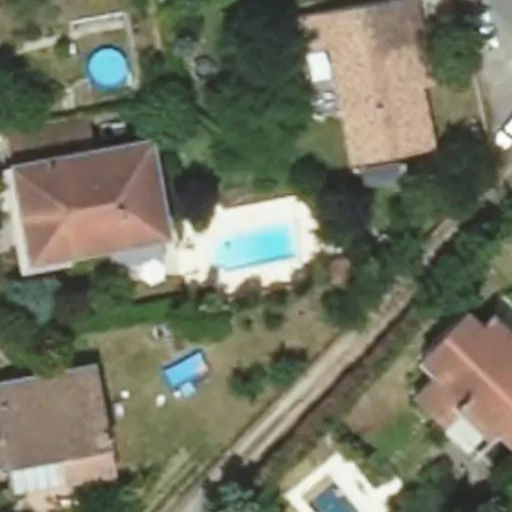pool: (213, 230, 297, 253)
